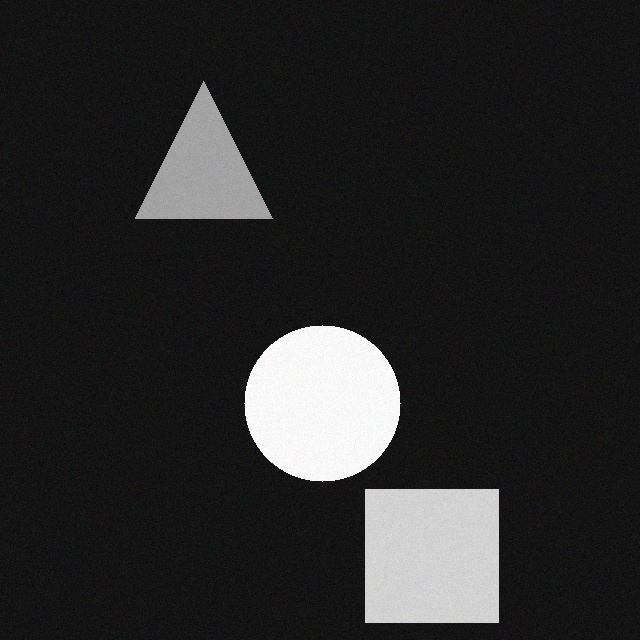circle: (241, 310, 397, 466)
square: (362, 474, 495, 607)
triangle: (132, 66, 269, 203)
